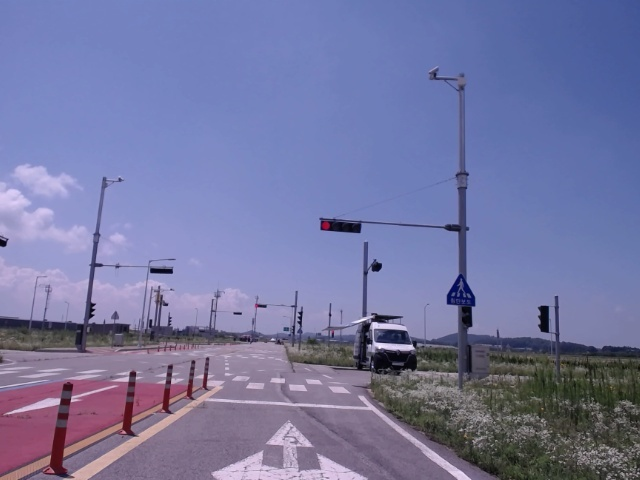red_4: (320, 221, 360, 232)
